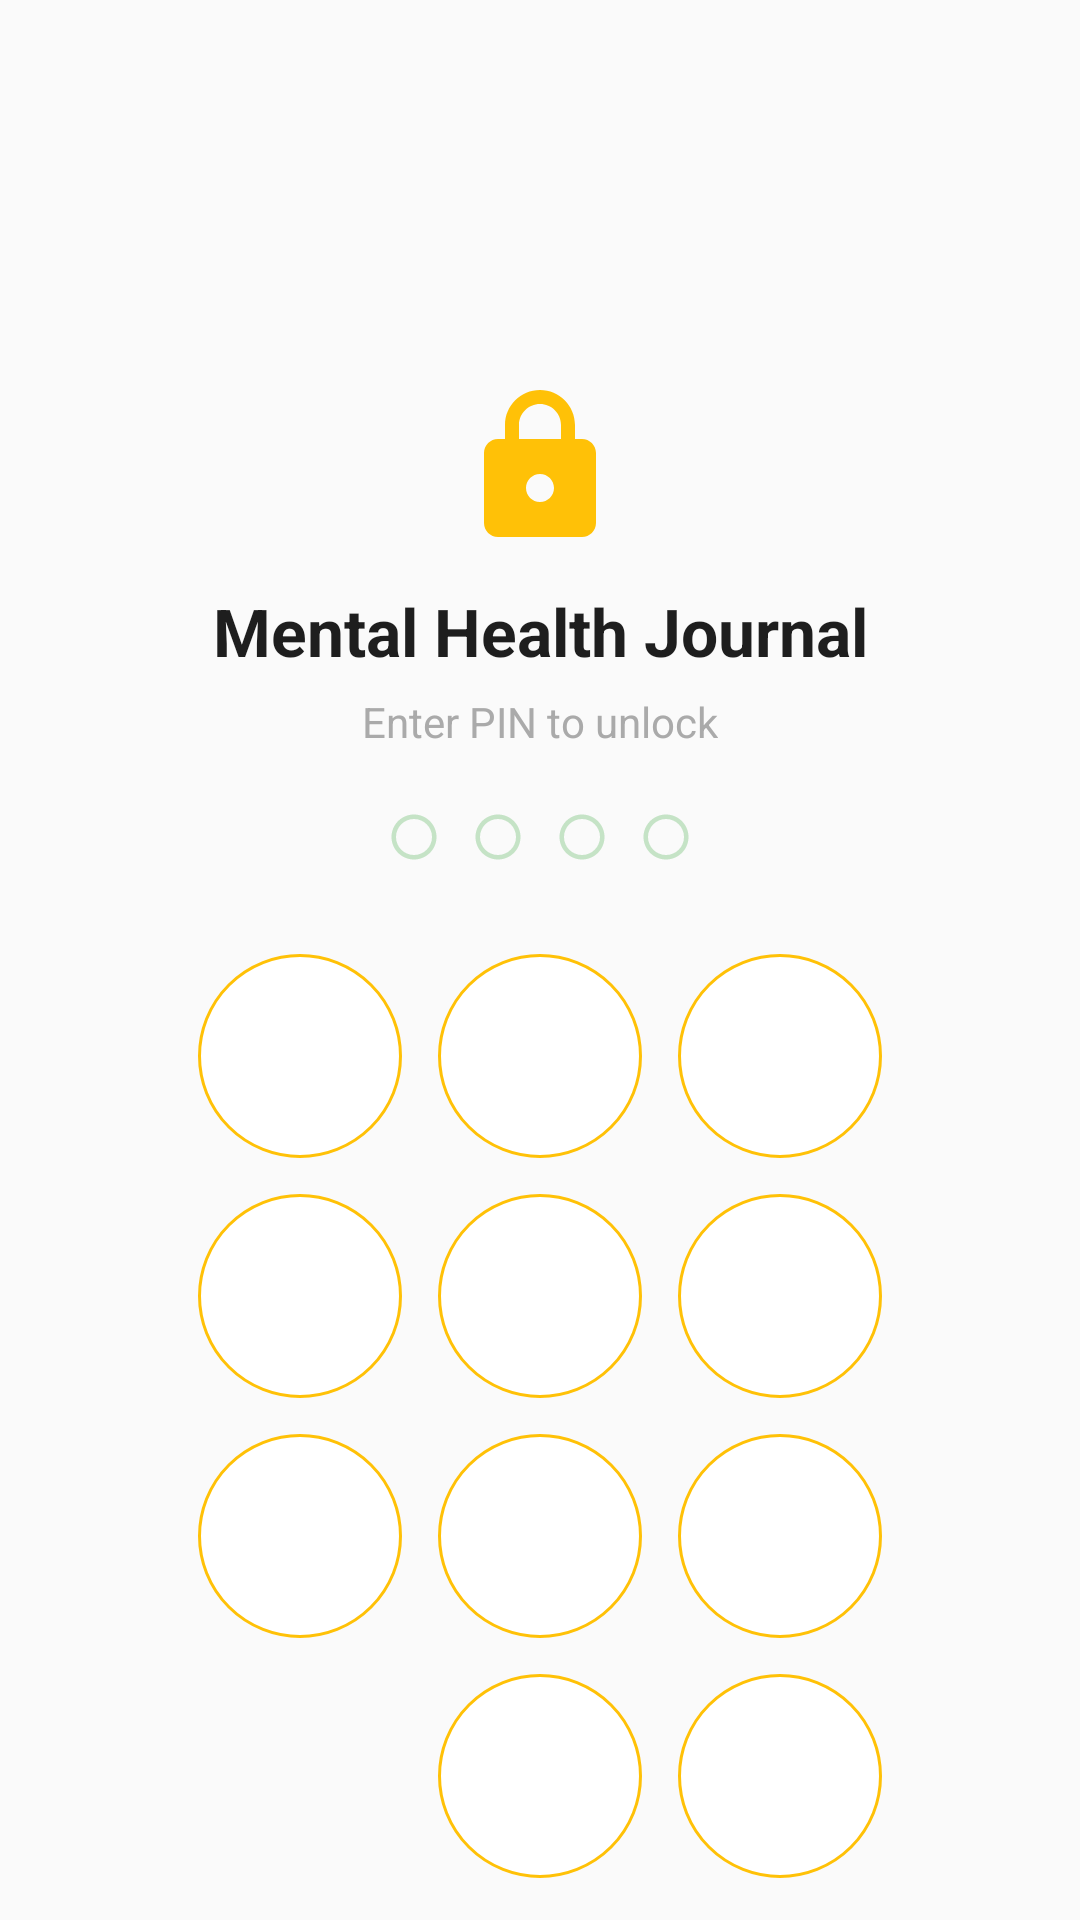

Where icons sit on this 1080 × 1920 app screen, as (x1=x1, y1=y1, x2=x2, y2=y2):
Lock Icon: (x1=484, y1=390, x2=596, y2=537)
pin dot empty: (x1=391, y1=814, x2=437, y2=860), (x1=475, y1=814, x2=521, y2=860), (x1=559, y1=814, x2=605, y2=860), (x1=643, y1=814, x2=689, y2=860)
